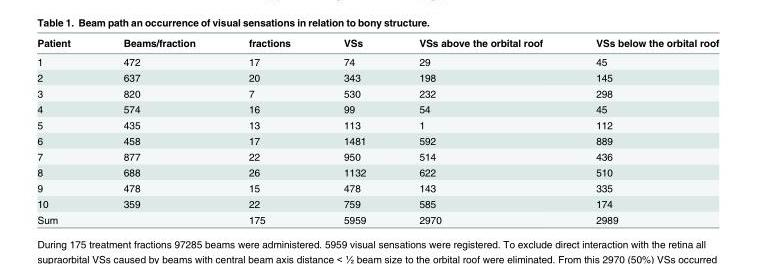table: (36, 36, 718, 225)
table column: (391, 36, 568, 225), (568, 36, 718, 225), (96, 36, 221, 225), (221, 36, 316, 225), (316, 36, 391, 225), (36, 36, 96, 225)
table column header: (36, 36, 718, 51)
table row: (36, 51, 718, 69), (36, 69, 718, 85), (36, 100, 718, 116), (36, 116, 718, 132), (36, 132, 718, 148), (36, 148, 718, 164), (36, 179, 718, 195), (36, 195, 718, 211), (36, 36, 718, 51), (36, 85, 718, 100), (36, 164, 718, 179), (36, 211, 718, 225)
